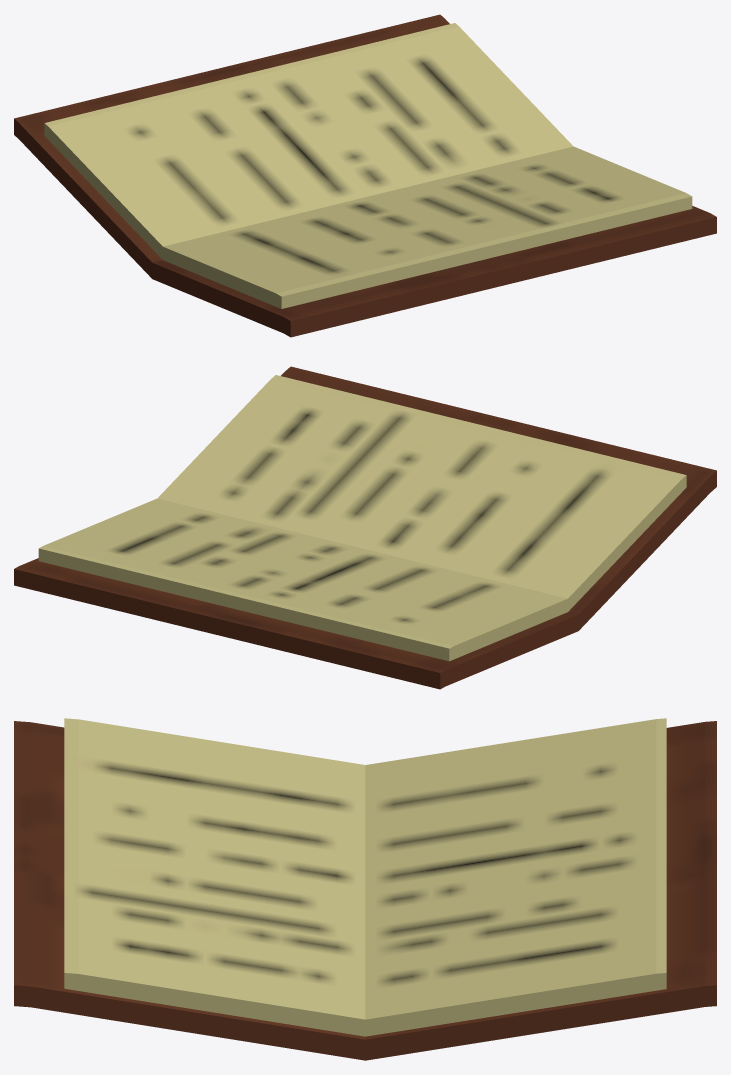
File: Book.fbx
3 renders of one model, top to bottom at view 1: azimuth 30°, elevation 25°; view 2: azimuth 150°, elevation 25°; view 3: azimuth 270°, elevation 25°, orthographic. The views are drawn at different scales.
Visible parts, largest first — view 1: Book; view 2: Book; view 3: Book.
Part boxes in pixels (x1,y1,x2,y2): Book: (14, 14, 716, 337); Book: (14, 366, 716, 689); Book: (14, 718, 716, 1060).
Bounding box in the file's own units: 208 × 31.03 × 233.
Materials: 2 (2 with a texture image).
